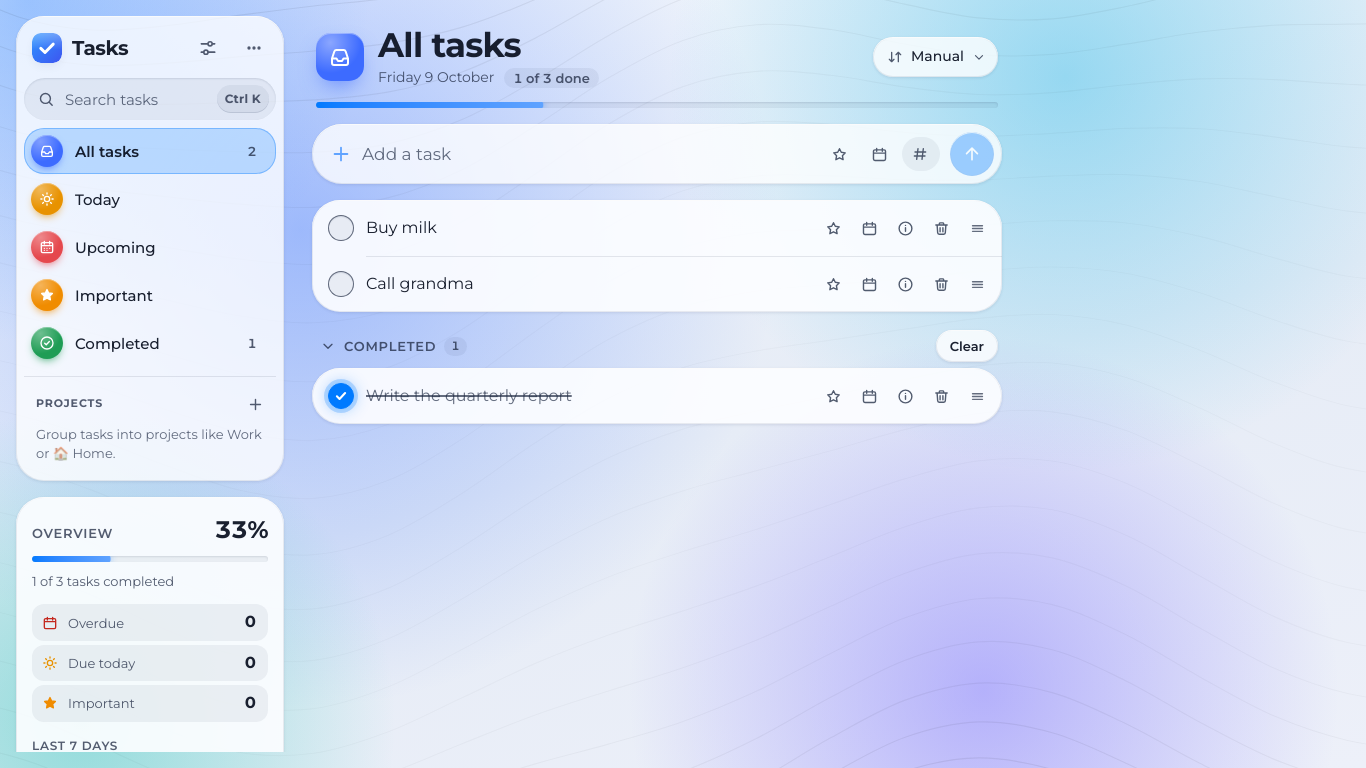
Test: TaskDetailsDialog › completes, stars and schedules the task
Click the button named "Details for “Call grandma”" at (905,284), box [888,267,922,301]
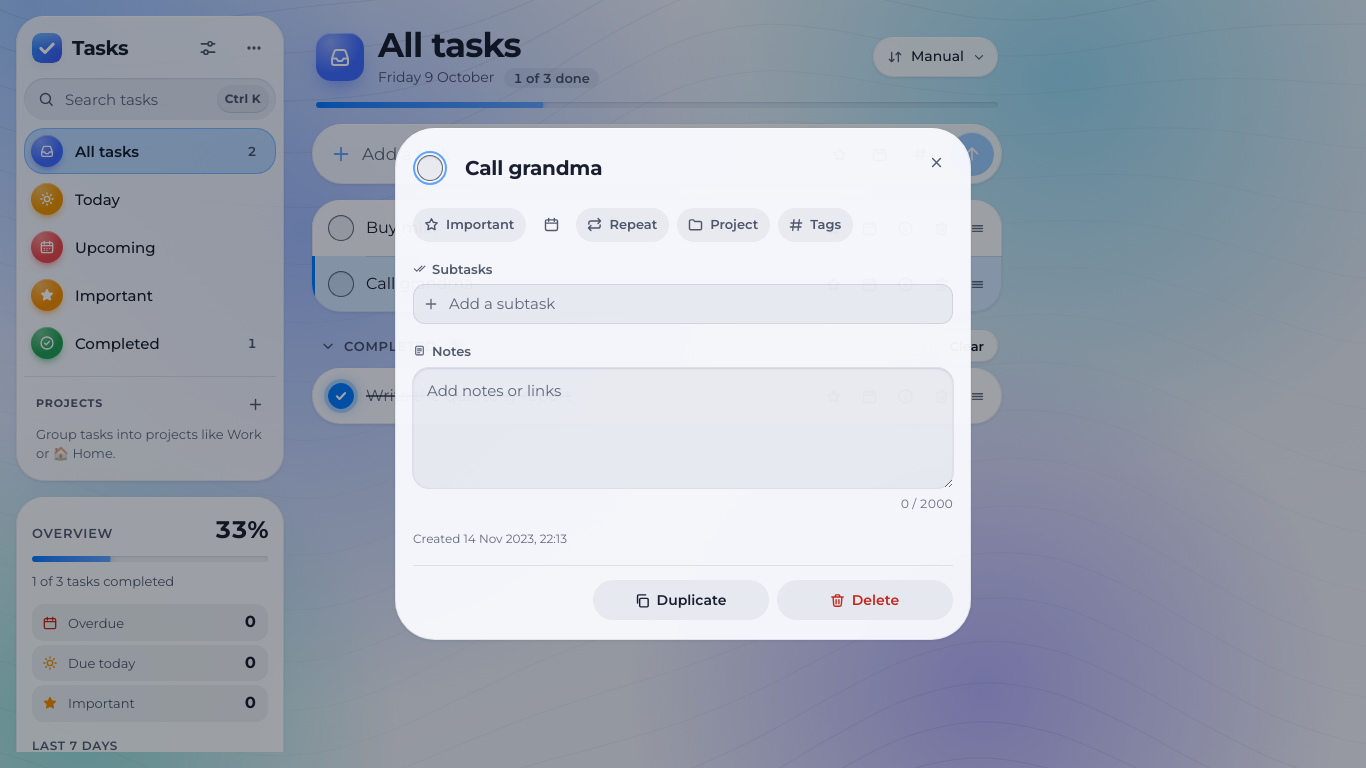
Click the button "Important" at (470,224), box [413,208,526,242]
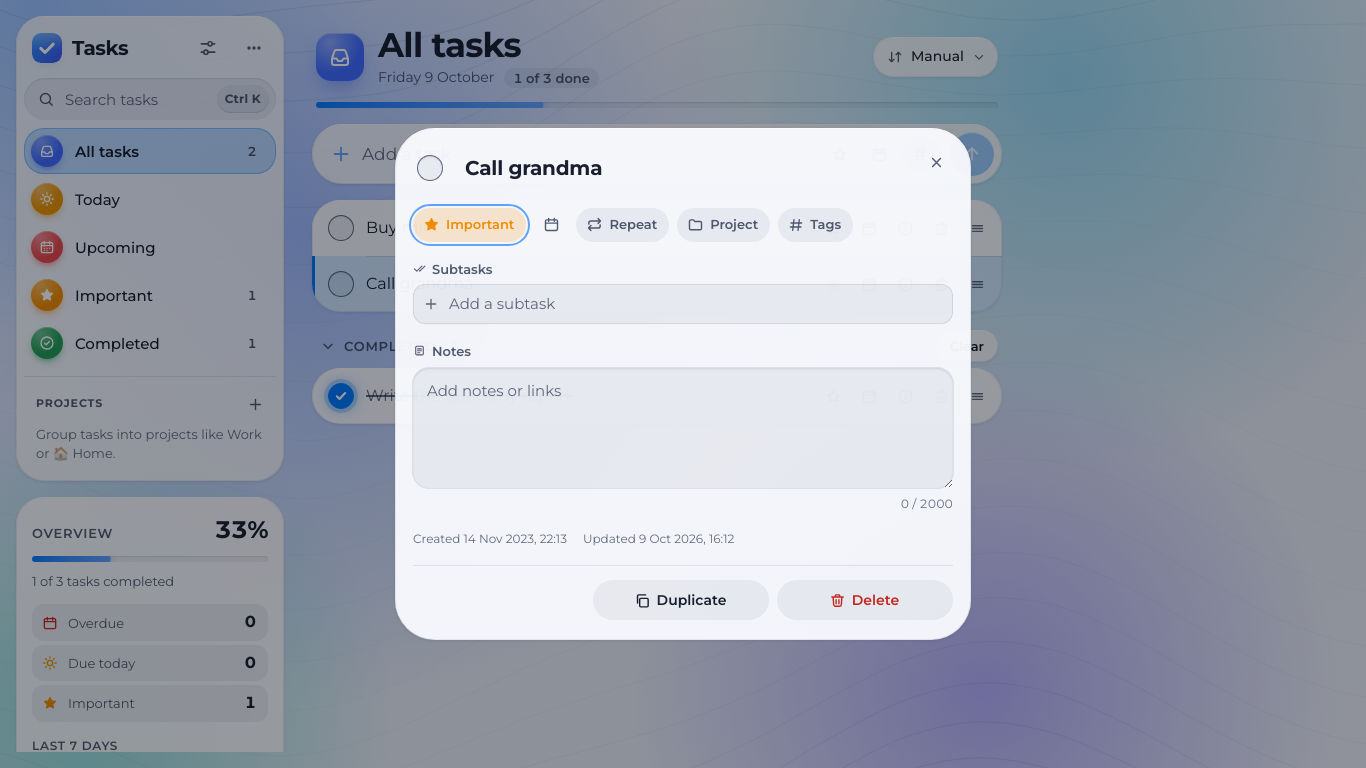
Click the button named "Due date" at (551,224), box [534,208,568,242]
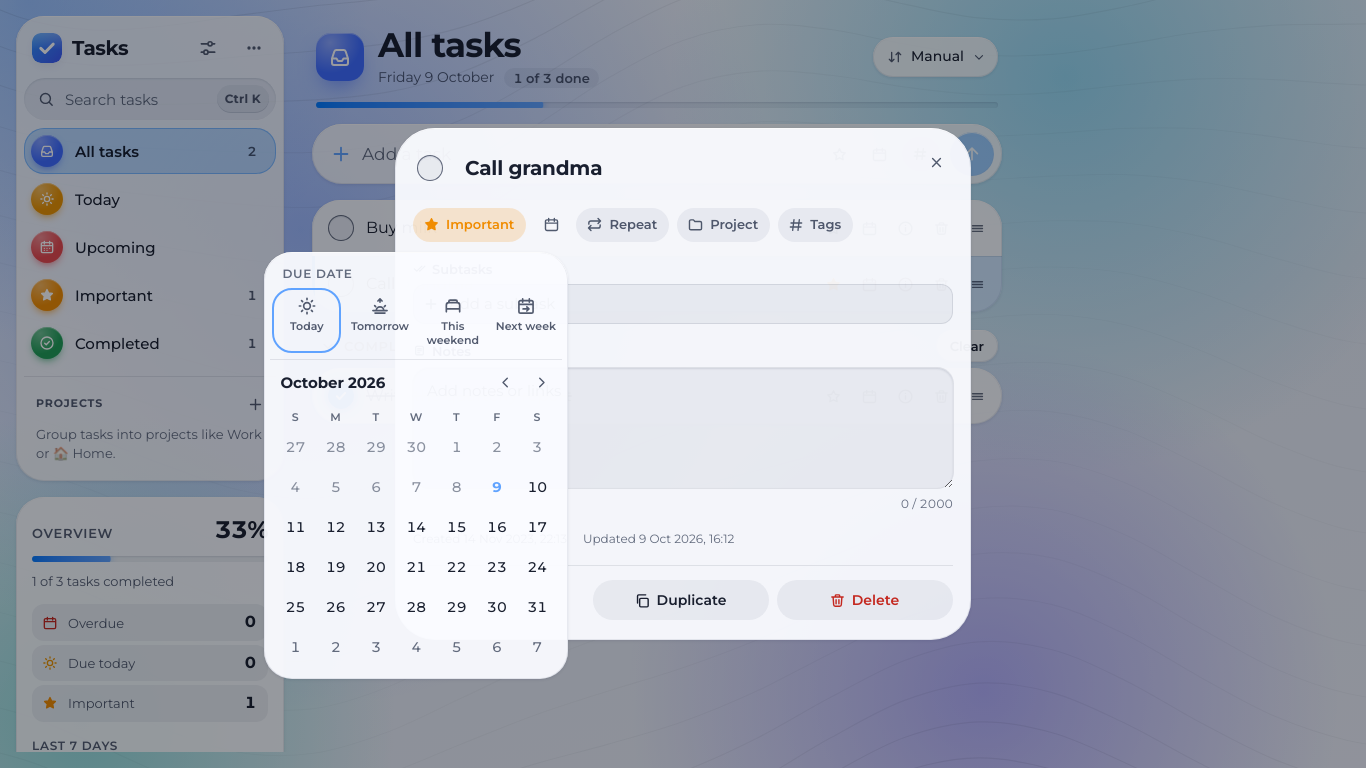
Click the button "Tomorrow" at (380,320), box [345,288,414,353]
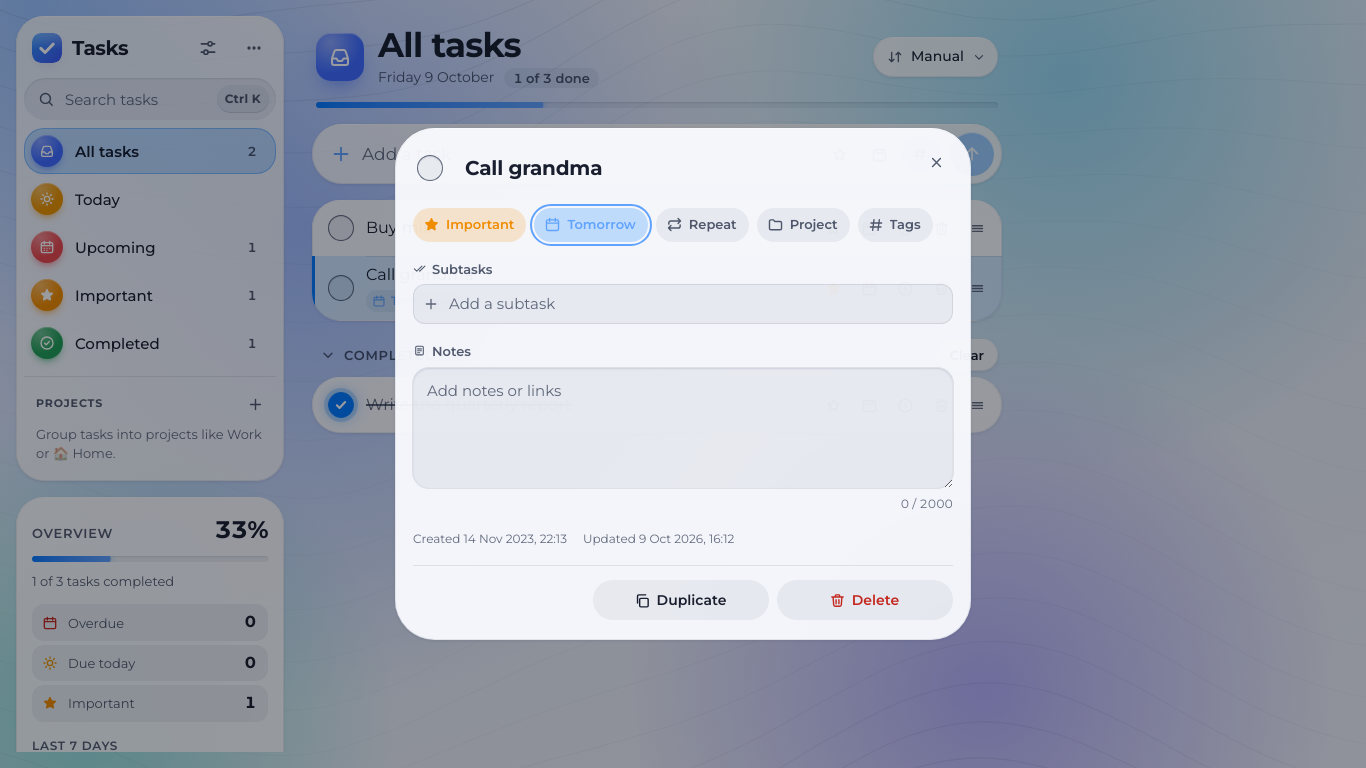
Click the checkbox named "Completed" at (430,168), box [417,154,443,180]
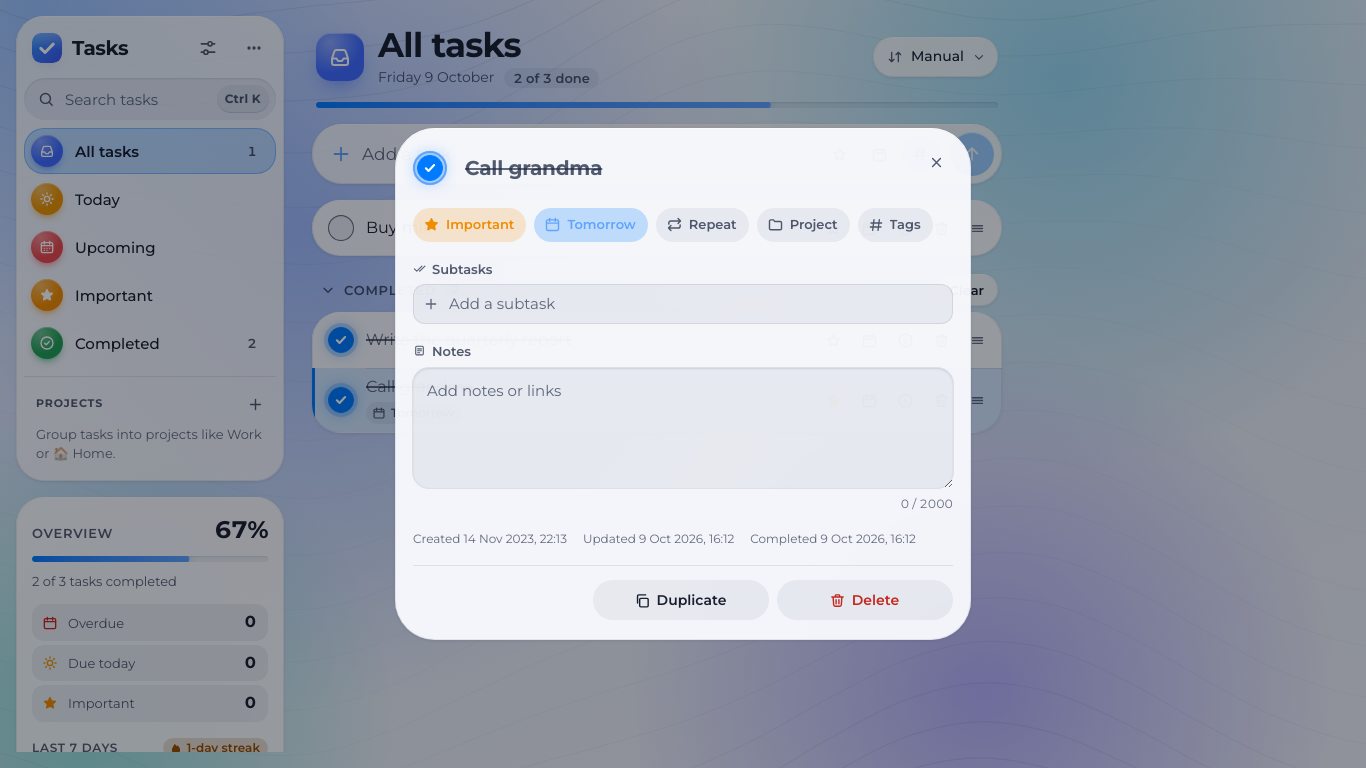
Check: the button named "Due date: " is shown, box [534,208,648,242]
Check: the list item "Completed 9 Oct 2026, 16:12" is shown, box [750,531,916,546]
